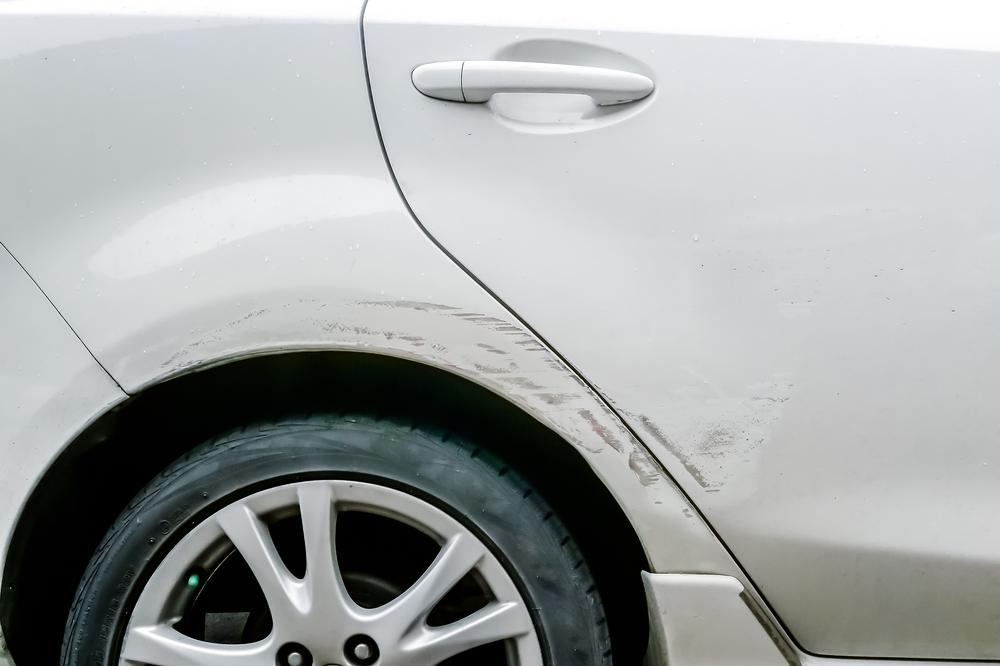scratch: (155, 296, 703, 523), (627, 370, 807, 509)
